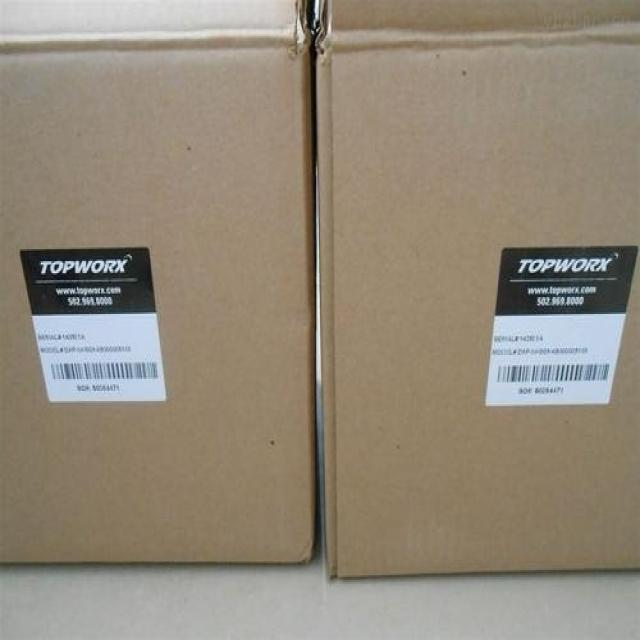box: (315, 0, 640, 580), (0, 0, 319, 563)
